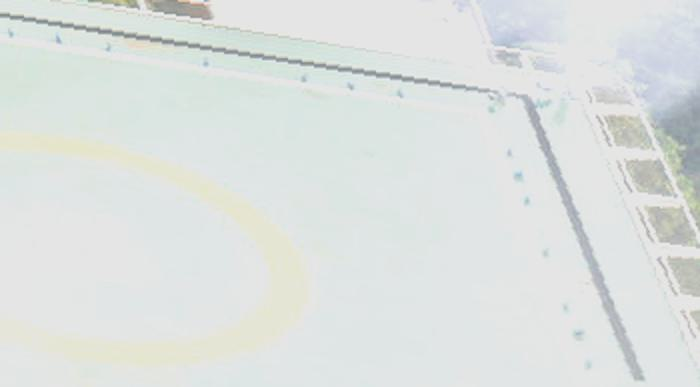Apron: (1, 131, 314, 363)
